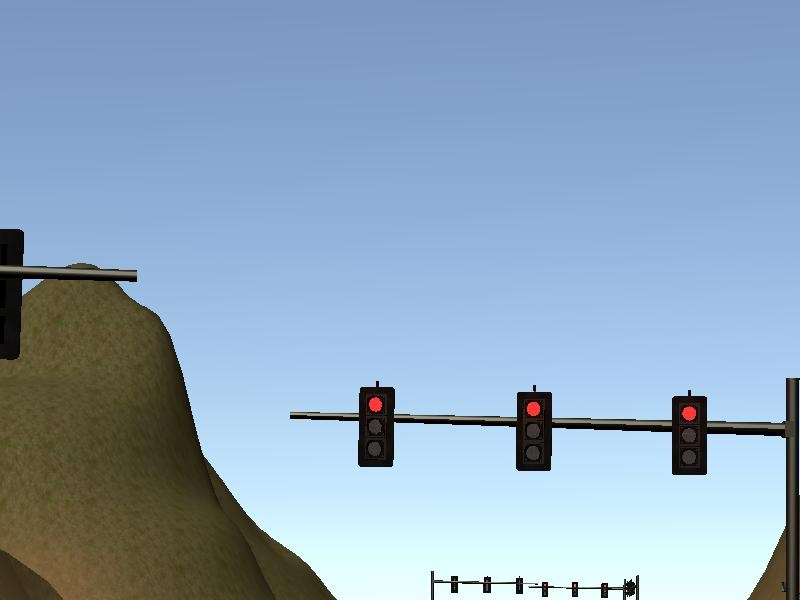red: (513, 387, 557, 475), (669, 394, 713, 478), (360, 387, 400, 468)
